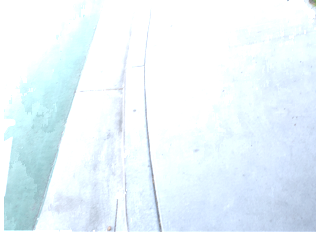Edge: (67, 2, 176, 239)
